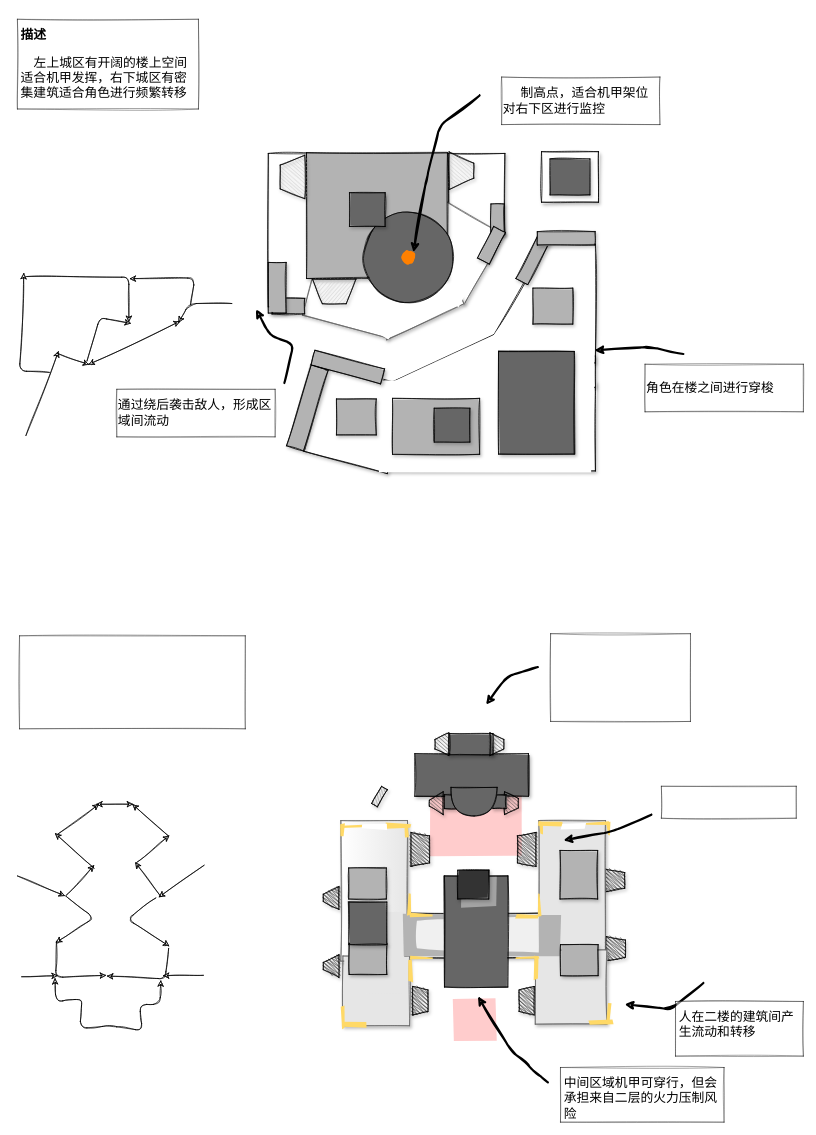
The diagram is 816 pixels wide and 1135 high, and some of its shapes have lost their labels. Each missing label, with the centre of its shape:
"描述 防守倾向型，人在H型的建筑群区域进行流动，整体有利于人对机甲进行高处打击" goes at point 132,682.
"适合机甲快速通过" goes at point 728,802.
"适合机甲活动的平台，和H型建筑物形成高台间的对峙" goes at point 620,677.
